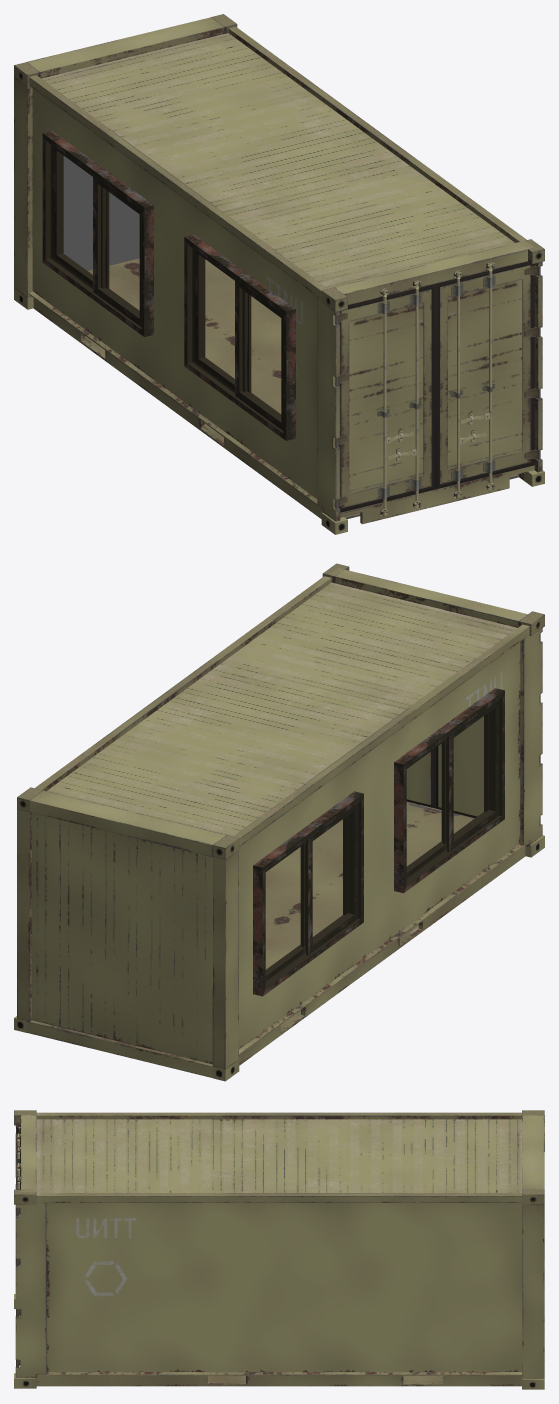
Rendered from Contener_green_2_Windown.fbx.
The picture shows the model from 3 angles, top to bottom: view 1: azimuth 30°, elevation 25°; view 2: azimuth 150°, elevation 25°; view 3: azimuth 270°, elevation 25°; orthographic projection. The views are drawn at different scales.
Parts seen in each view (by area): view 1: bok_LP1_T5_0, door_plast_LP1_T5_0, door_plast_LP_T5_0, f, f.001, dow.001, dow, up, up.001; view 2: bok_LP1_T5_0, f, f.001, up, up.001, door_plast_LP_T5_0, door_plast_LP1_T5_0, dow.001, dow; view 3: bok_LP1_T5_0.
Boxes of the visible parts, left/top/right/bottom form: bok_LP1_T5_0: left=14, top=14, right=544, bottom=534; door_plast_LP1_T5_0: left=435, top=261, right=540, bottom=498; door_plast_LP_T5_0: left=335, top=281, right=435, bottom=516; f: left=42, top=131, right=153, bottom=336; f.001: left=184, top=234, right=295, bottom=440; dow.001: left=194, top=249, right=251, bottom=393; dow: left=52, top=145, right=109, bottom=289; up: left=93, top=175, right=141, bottom=326; up.001: left=235, top=279, right=283, bottom=430; bok_LP1_T5_0: left=14, top=563, right=544, bottom=1081; f: left=253, top=791, right=363, bottom=996; f.001: left=394, top=688, right=504, bottom=893; up: left=301, top=803, right=358, bottom=955; up.001: left=442, top=700, right=499, bottom=852; door_plast_LP_T5_0: left=436, top=633, right=540, bottom=824; door_plast_LP1_T5_0: left=406, top=748, right=436, bottom=808; dow.001: left=406, top=738, right=446, bottom=878; dow: left=265, top=841, right=305, bottom=981; bok_LP1_T5_0: left=14, top=1110, right=544, bottom=1389.
Bounding box in the file's own units: 234 × 242 × 601.
2 materials, 2 textured.
